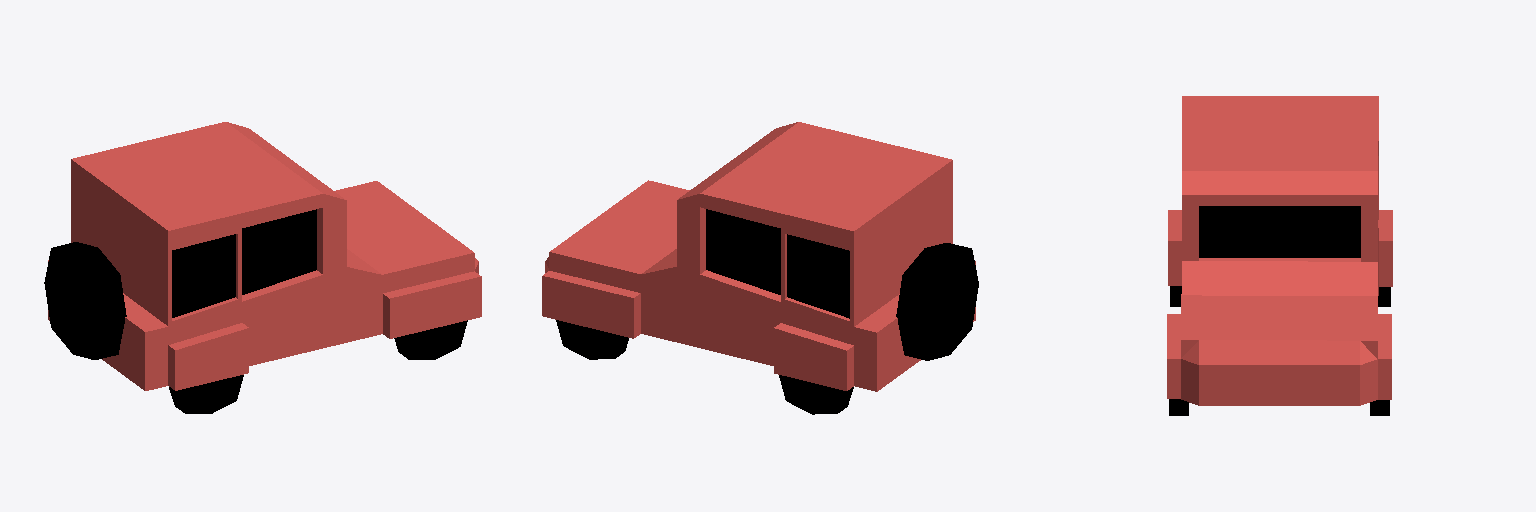
3 renders of one model, left to right at view 1: azimuth 30°, elevation 25°; view 2: azimuth 150°, elevation 25°; view 3: azimuth 270°, elevation 25°, orthographic.
Visible parts, largest first — view 1: Plane.001; view 2: Plane.001; view 3: Plane.001.
Part boxes in pixels (bbox=[...]): Plane.001: bbox=[44, 122, 481, 413]; Plane.001: bbox=[542, 122, 978, 414]; Plane.001: bbox=[1167, 96, 1392, 415].
Size of the model in its own units: 4.29 by 2.11 by 2.3.
Materials: 1 (1 with a texture image).